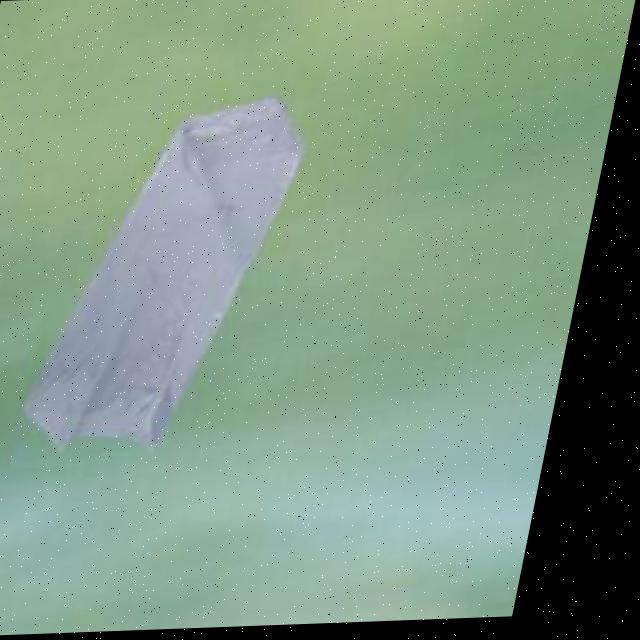litter: (27, 66, 331, 480)
